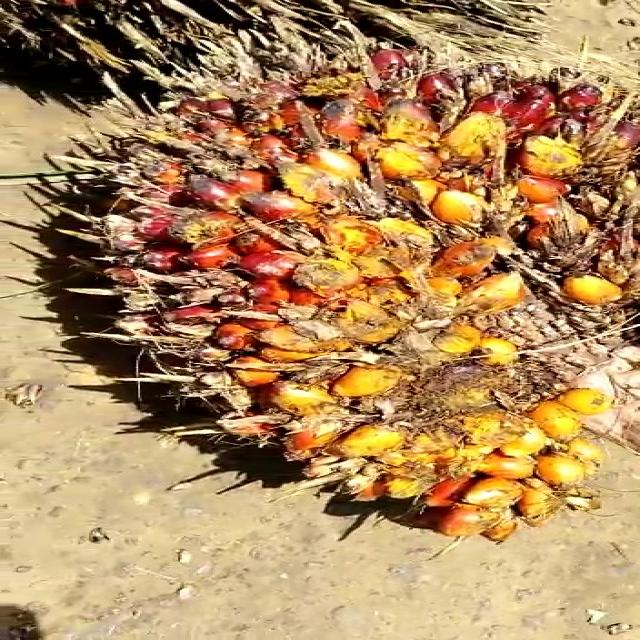palm oil: (37, 46, 640, 548)
